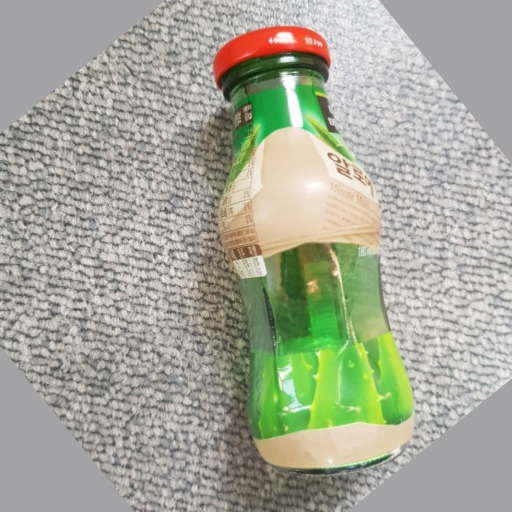Glass_4: (213, 24, 418, 474)
